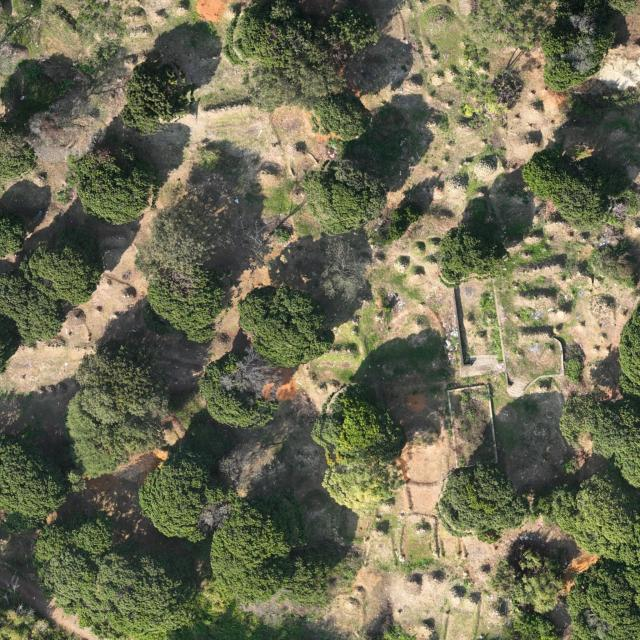Tree: (32, 507, 202, 640), (223, 0, 378, 144), (64, 337, 172, 482), (0, 224, 102, 347), (534, 468, 640, 566), (209, 495, 304, 604), (236, 284, 337, 369), (559, 386, 640, 490), (310, 383, 408, 468), (434, 461, 533, 545), (138, 443, 219, 543), (66, 144, 161, 226), (197, 344, 285, 430), (133, 201, 229, 278), (300, 158, 392, 238), (539, 0, 617, 94), (522, 146, 610, 228), (0, 431, 68, 533), (565, 554, 640, 640), (146, 264, 227, 343), (486, 536, 566, 614), (121, 58, 196, 138), (320, 455, 406, 516), (432, 222, 500, 288), (319, 240, 370, 307), (0, 210, 27, 260), (563, 356, 584, 384)
